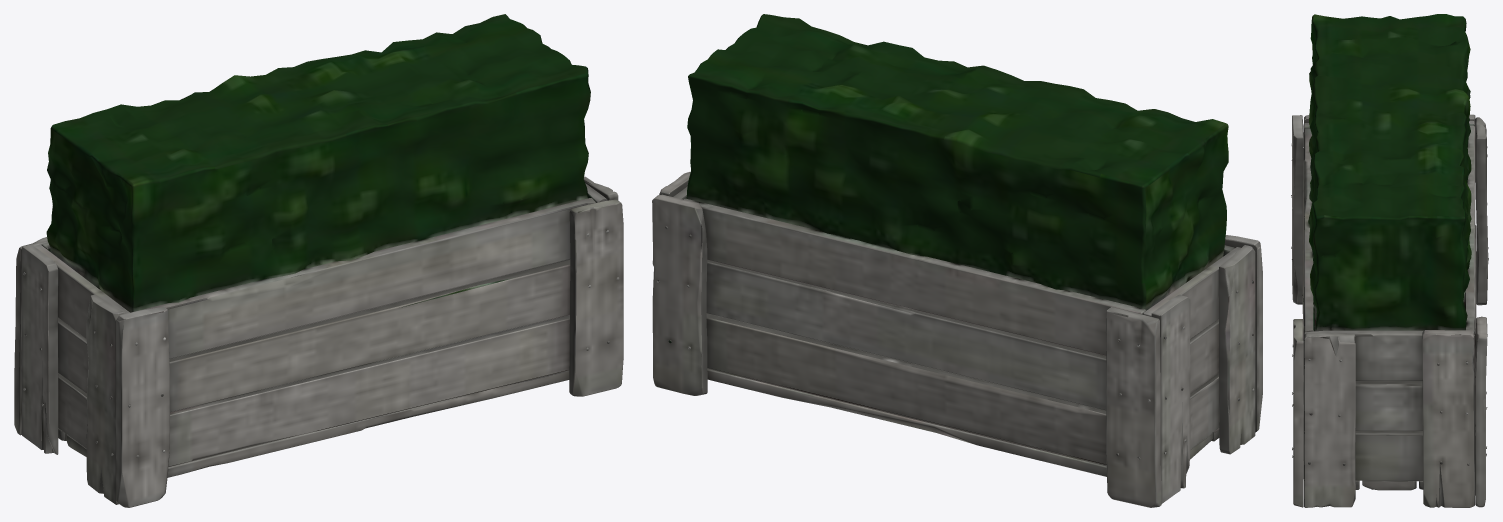
Rendered from planter.glb.
3 views of the same model, side by side, from view 1: azimuth 30°, elevation 25°; view 2: azimuth 150°, elevation 25°; view 3: azimuth 270°, elevation 25° (orthographic). The views are drawn at different scales.
Visible parts, largest first — view 1: planter; view 2: planter; view 3: planter.
Part boxes in pixels (bbox=[...]): planter: bbox=[14, 14, 623, 507]; planter: bbox=[652, 14, 1262, 507]; planter: bbox=[1291, 14, 1488, 507].
Bounding box in the file's own units: 1.2 × 0.7161 × 0.4479.
Materials: 1 (1 with a texture image).
